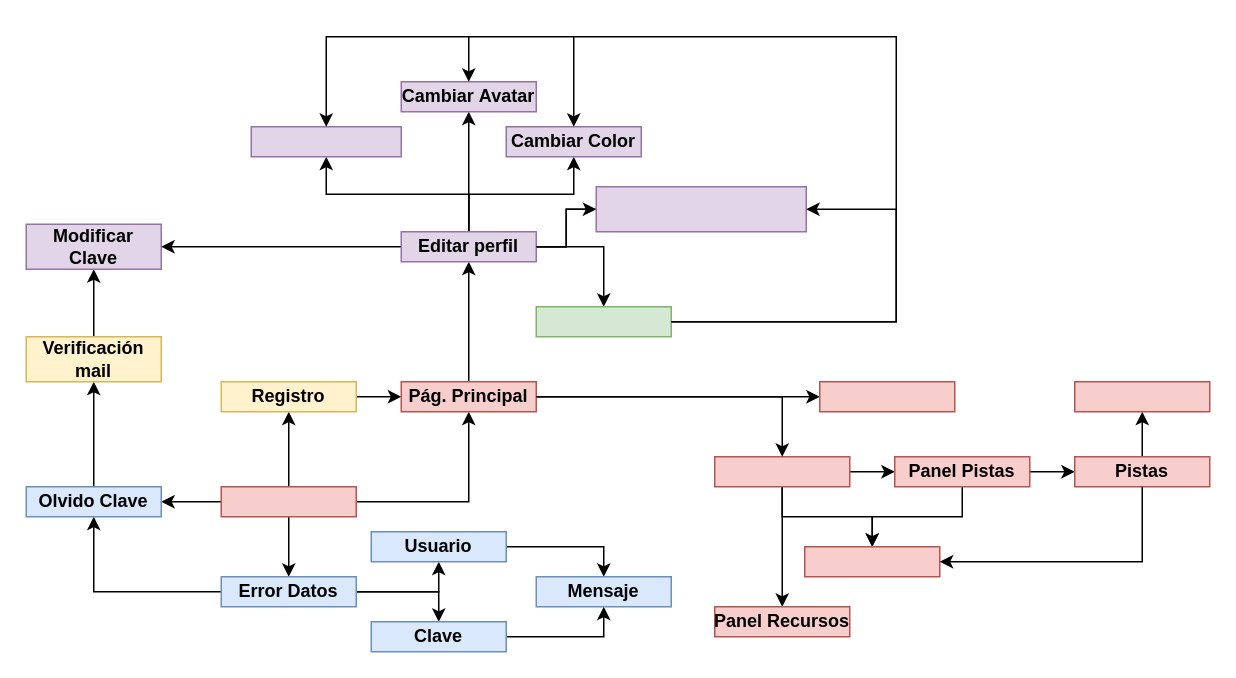
Image size: 1236x678. Some labels were removed from this diagram. The box of each missing label's shape, as (x1, y1, x2, y2) in pixels:
Añadir Hij@s: (535, 305, 671, 337)
Cambiar Fecha Nacimiento: (595, 185, 806, 232)
Cambiar Nombre: (250, 125, 401, 157)
INFO: (1073, 380, 1210, 412)
Login: (220, 485, 356, 517)
Mapa: (803, 545, 940, 577)
Panel Ruta: (713, 455, 850, 487)
Panel Sumario: (818, 380, 955, 412)
